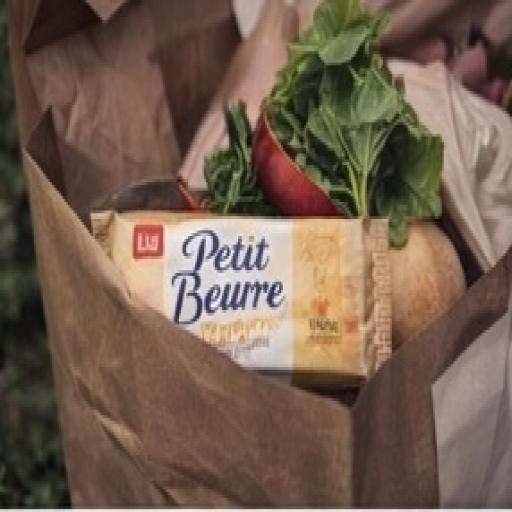petit_beurre: (64, 148, 422, 448)
